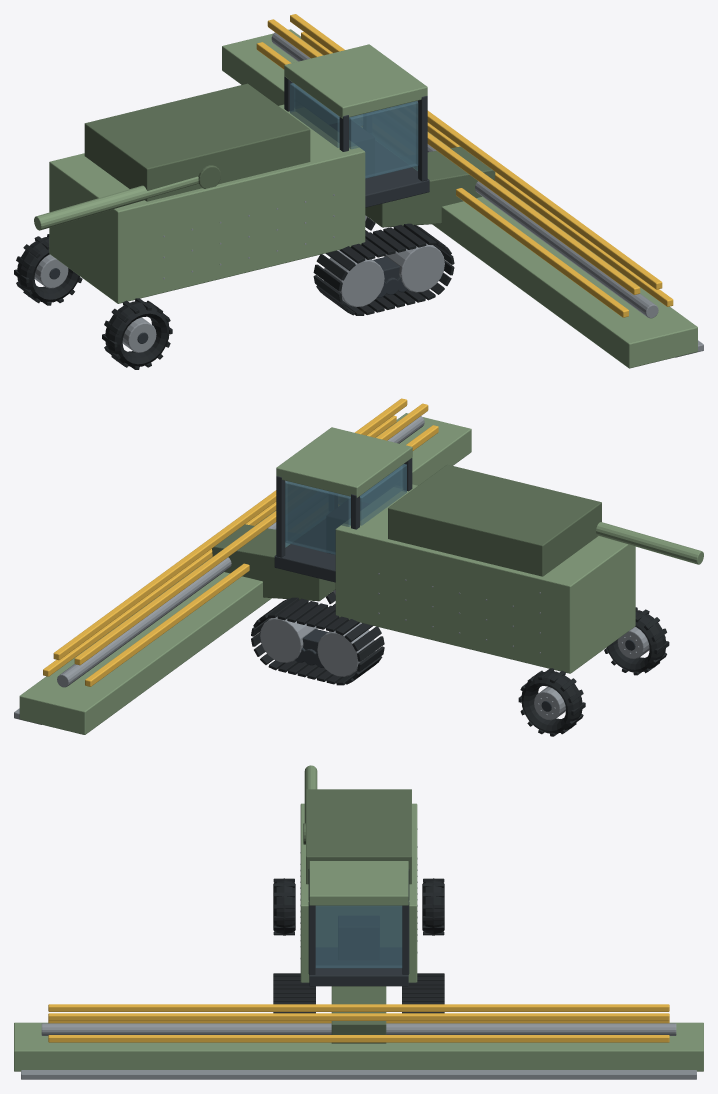
Rendered from claas-lexion-8900-terra-trac-structural-study.glb.
3 renders of one model, top to bottom at view 1: azimuth 30°, elevation 25°; view 2: azimuth 150°, elevation 25°; view 3: azimuth 270°, elevation 25°, orthographic. The views are drawn at different scales.
Parts seen in each view (by area): view 1: Separator_Main_House, Grain_Tank, Header_Backbone, Cab_Roof, Feederhouse, Cab_R_Glass, Reel_Bat_2, Reel_Bat_3, Reel_Axle, Reel_Bat_4, Cab_Floor, Reel_Bat_1 (+10 smaller); view 2: Separator_Main_House, Grain_Tank, Header_Backbone, Cab_Roof, Feederhouse, Cab_L_Glass, Reel_Bat_2, Reel_Bat_3, Reel_Axle, Reel_Bat_4, Cab_Floor, Reel_Bat_1 (+10 smaller); view 3: Header_Backbone, Grain_Tank, Reel_Axle, Cutterbar, Cab_Front_Glass, Reel_Bat_1, Reel_Bat_2, Reel_Bat_3, Separator_Main_House, Cab_Roof, Cab_Floor, Feederhouse (+6 smaller).
Boxes of the visible parts, x1=… form: Separator_Main_House: x1=49, y1=104, x2=365, y2=303; Grain_Tank: x1=84, y1=83, x2=310, y2=201; Header_Backbone: x1=222, y1=29, x2=697, y2=368; Cab_Roof: x1=284, y1=44, x2=427, y2=118; Feederhouse: x1=365, y1=146, x2=495, y2=227; Cab_R_Glass: x1=349, y1=101, x2=418, y2=178; Reel_Bat_2: x1=290, y1=14, x2=662, y2=289; Reel_Bat_3: x1=267, y1=19, x2=640, y2=294; Reel_Axle: x1=271, y1=32, x2=658, y2=318; Reel_Bat_4: x1=256, y1=42, x2=628, y2=317; Cab_Floor: x1=365, y1=141, x2=429, y2=207; Reel_Bat_1: x1=301, y1=32, x2=673, y2=306; Separator_Main_House: x1=335, y1=484, x2=635, y2=673; Grain_Tank: x1=388, y1=464, x2=601, y2=576; Header_Backbone: x1=19, y1=413, x2=471, y2=734; Cab_Roof: x1=276, y1=427, x2=412, y2=497; Feederhouse: x1=212, y1=524, x2=335, y2=601; Cab_L_Glass: x1=285, y1=481, x2=350, y2=554; Reel_Bat_2: x1=53, y1=398, x2=407, y2=660; Reel_Bat_3: x1=74, y1=403, x2=428, y2=665; Reel_Axle: x1=57, y1=416, x2=424, y2=687; Reel_Bat_4: x1=85, y1=425, x2=438, y2=686; Cab_Floor: x1=274, y1=519, x2=335, y2=582; Reel_Bat_1: x1=43, y1=415, x2=396, y2=676; Header_Backbone: x1=14, y1=1022, x2=703, y2=1071; Grain_Tank: x1=306, y1=789, x2=411, y2=884; Reel_Axle: x1=41, y1=1023, x2=676, y2=1035; Cutterbar: x1=21, y1=1070, x2=696, y2=1079; Cab_Front_Glass: x1=315, y1=905, x2=402, y2=968; Reel_Bat_1: x1=48, y1=1035, x2=669, y2=1042; Reel_Bat_2: x1=48, y1=1013, x2=669, y2=1020; Reel_Bat_3: x1=48, y1=1004, x2=669, y2=1011; Separator_Main_House: x1=300, y1=803, x2=417, y2=982; Cab_Roof: x1=309, y1=861, x2=408, y2=905; Cab_Floor: x1=309, y1=948, x2=408, y2=986; Feederhouse: x1=331, y1=986, x2=386, y2=1043.
Bounding box in the file's own units: 10.75 × 4 × 15.3.
